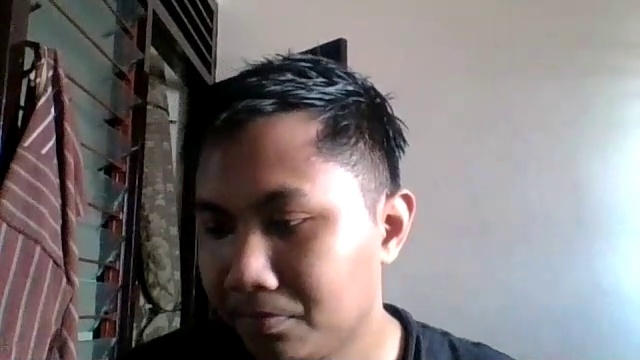Distracted: (183, 110, 410, 360)
